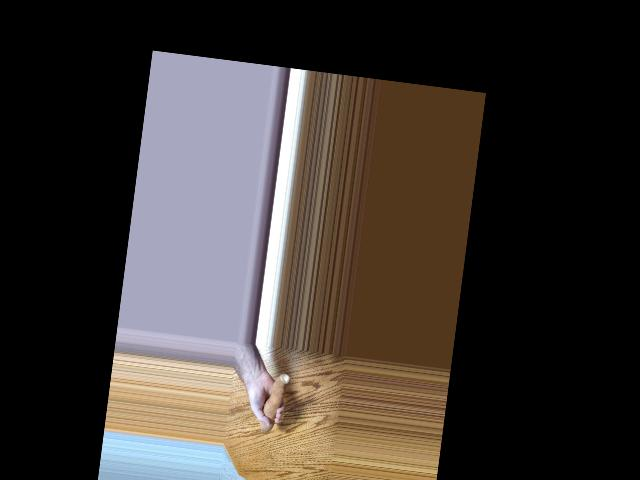sweet_potato: (256, 365, 288, 429)
